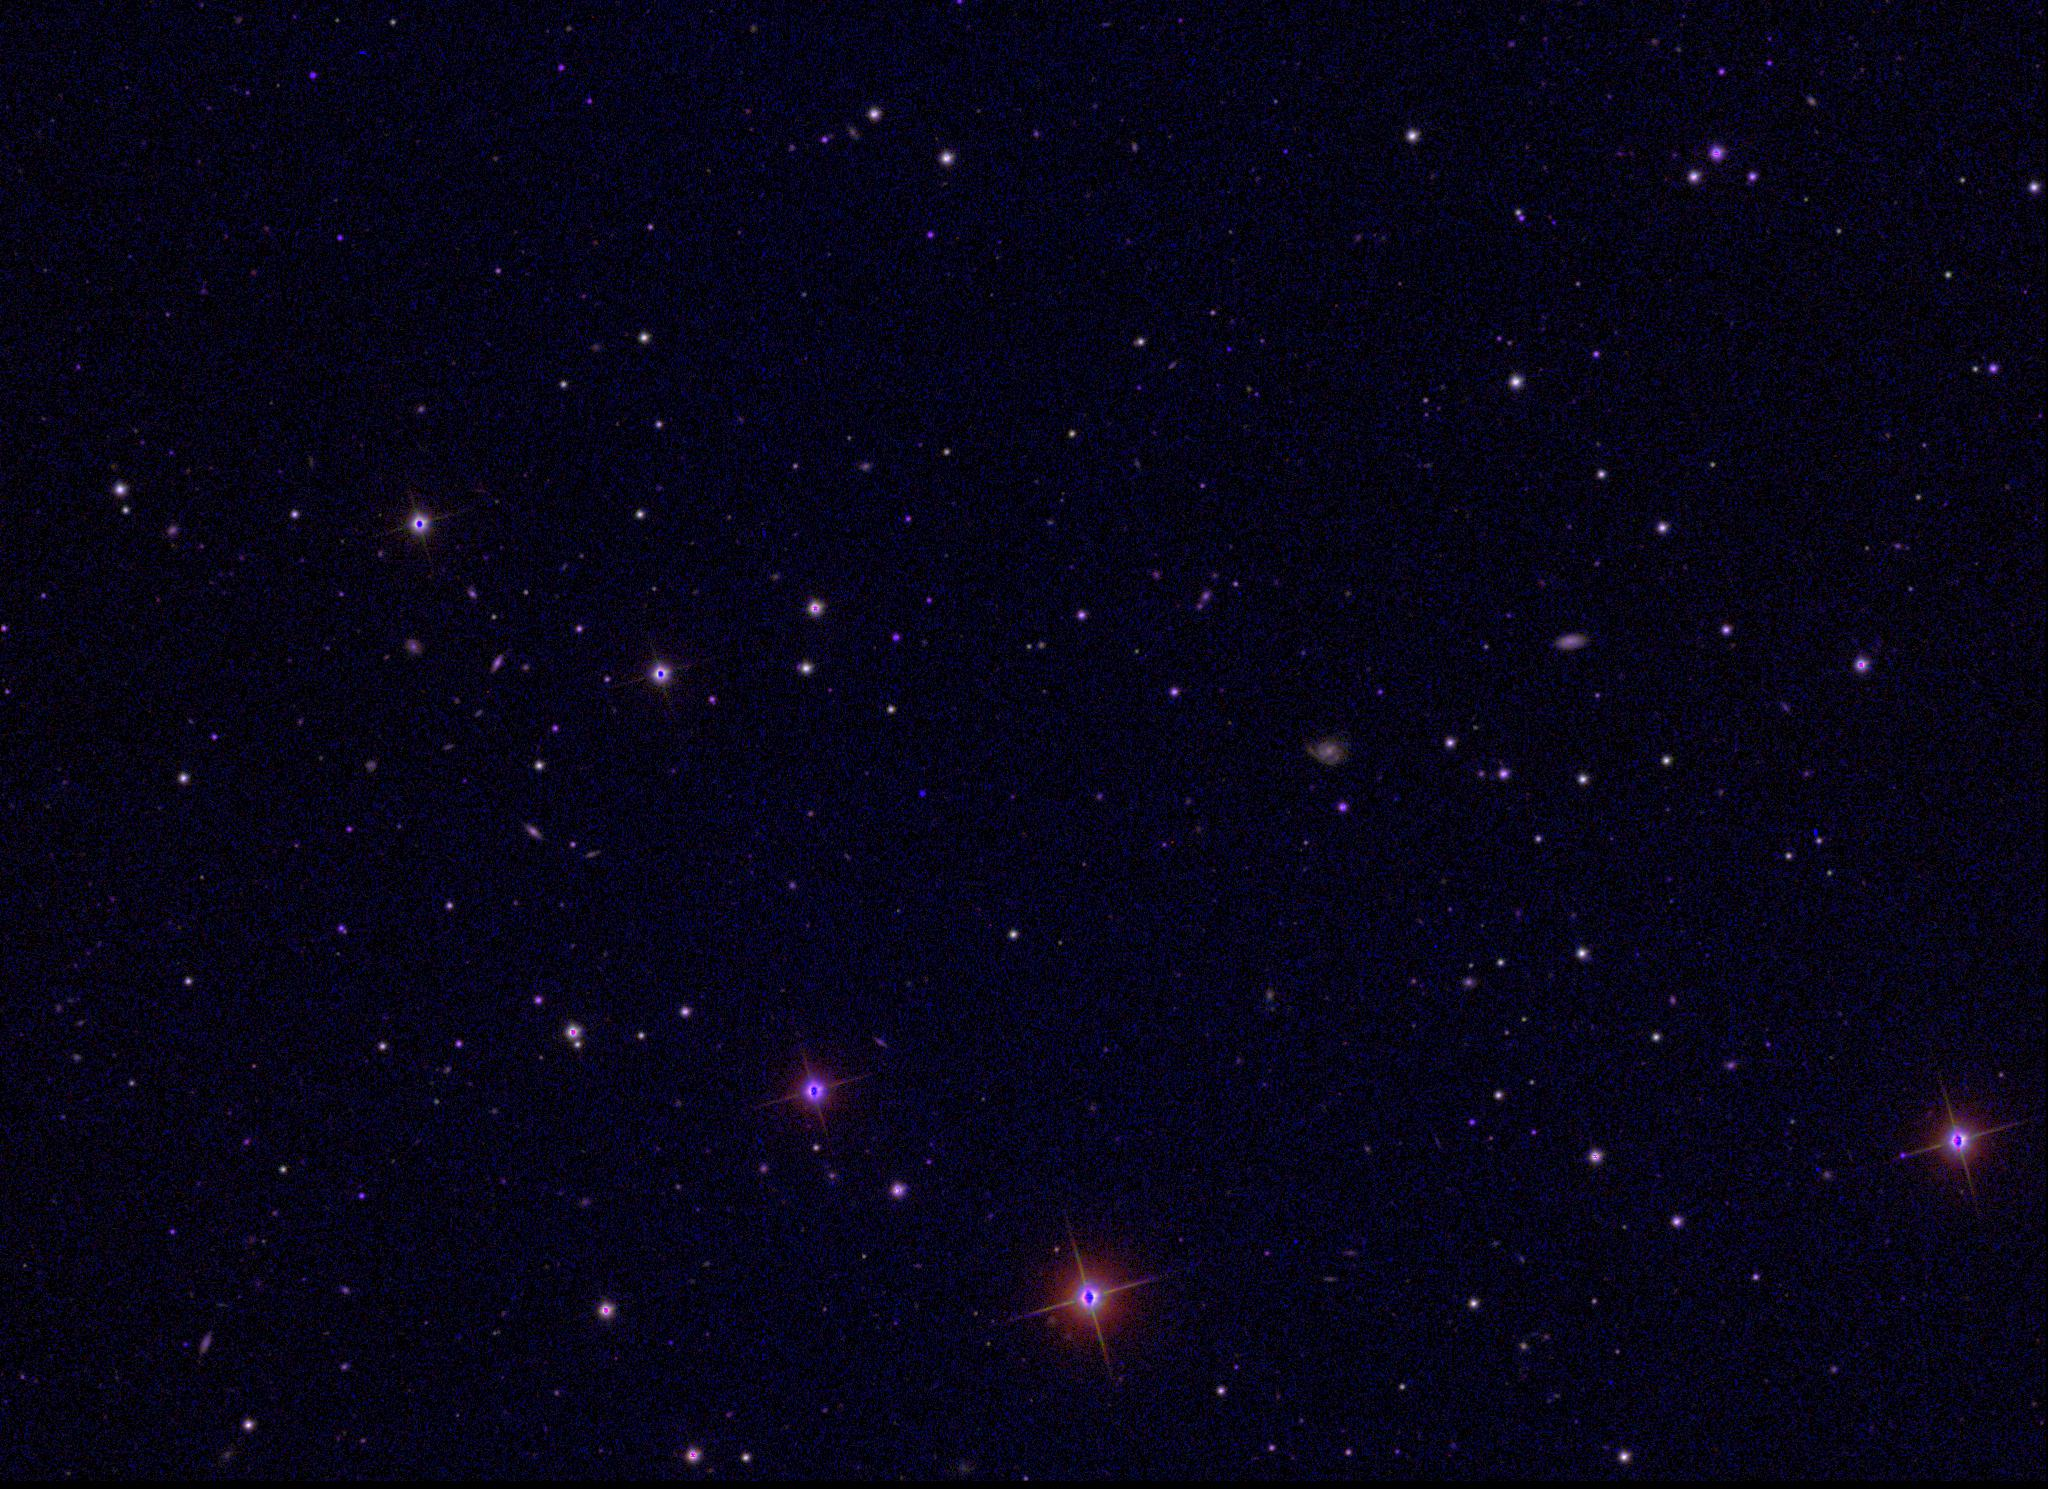L: (914, 784, 929, 799)
